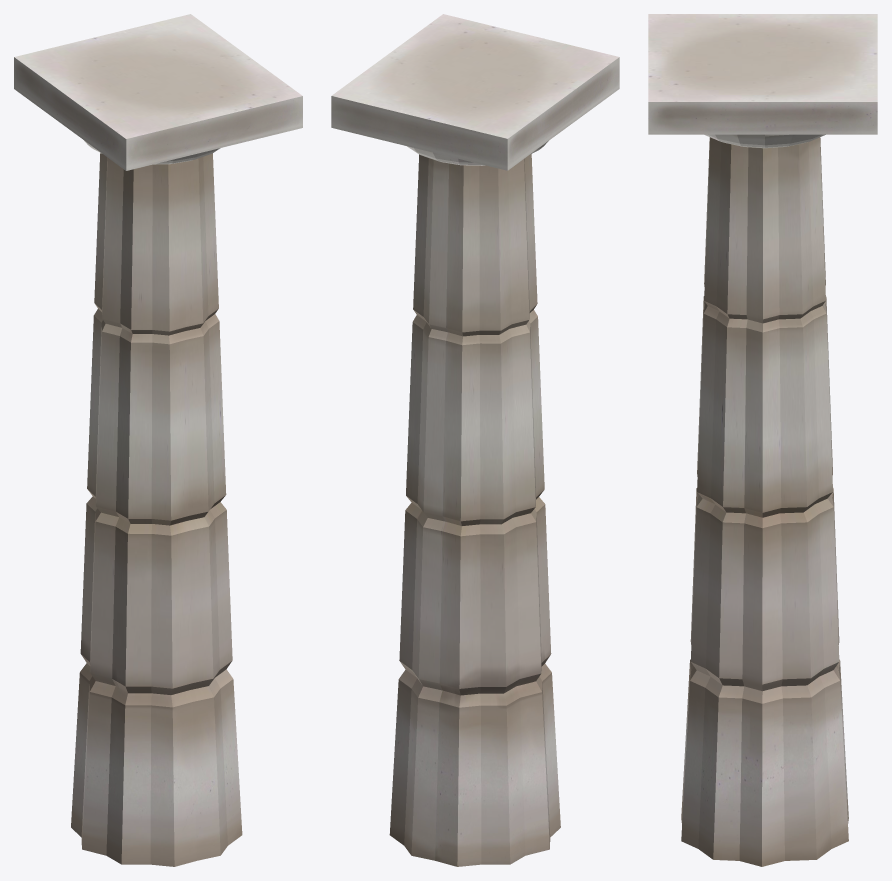
3 views of the same model, side by side, from view 1: azimuth 30°, elevation 25°; view 2: azimuth 150°, elevation 25°; view 3: azimuth 270°, elevation 25° (orthographic). The views are drawn at different scales.
Visible parts, largest first — view 1: 柱子; view 2: 柱子; view 3: 柱子.
Boxes of the visible parts, bbox=[...] form: 柱子: bbox=[14, 14, 302, 866]; 柱子: bbox=[331, 14, 619, 866]; 柱子: bbox=[648, 14, 877, 866].
Bounding box in the file's own units: 202 × 825 × 222.
1 material, 1 textured.
